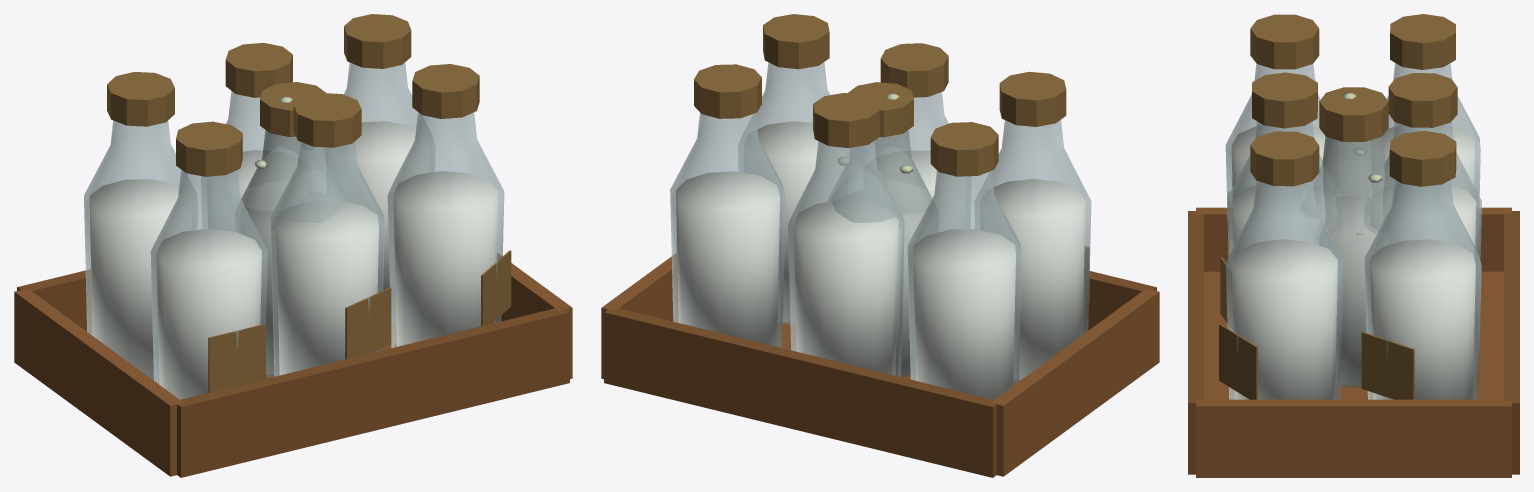
File: Ranch_GoatMilk.fbx
The picture shows the model from 3 angles, left to right: view 1: azimuth 30°, elevation 25°; view 2: azimuth 150°, elevation 25°; view 3: azimuth 270°, elevation 25°; orthographic projection.
Parts seen in each view (by area): view 1: Ranch_GoatMilk__Stack, Ranch_GoatMilk, Ranch_GoatMilk__Rotten; view 2: Ranch_GoatMilk__Stack, Ranch_GoatMilk, Ranch_GoatMilk__Rotten; view 3: Ranch_GoatMilk__Stack, Ranch_GoatMilk, Ranch_GoatMilk__Rotten.
Boxes of the visible parts, x1=… form: Ranch_GoatMilk__Stack: x1=14, y1=14, x2=572, y2=477; Ranch_GoatMilk: x1=240, y1=82, x2=344, y2=377; Ranch_GoatMilk__Rotten: x1=241, y1=96, x2=314, y2=376; Ranch_GoatMilk__Stack: x1=601, y1=14, x2=1159, y2=477; Ranch_GoatMilk: x1=829, y1=82, x2=933, y2=376; Ranch_GoatMilk__Rotten: x1=838, y1=93, x2=931, y2=376; Ranch_GoatMilk__Stack: x1=1188, y1=14, x2=1519, y2=477; Ranch_GoatMilk: x1=1313, y1=87, x2=1394, y2=387; Ranch_GoatMilk__Rotten: x1=1322, y1=93, x2=1384, y2=387.
Size of the model in its own units: 0.238 by 0.163 by 0.168.
